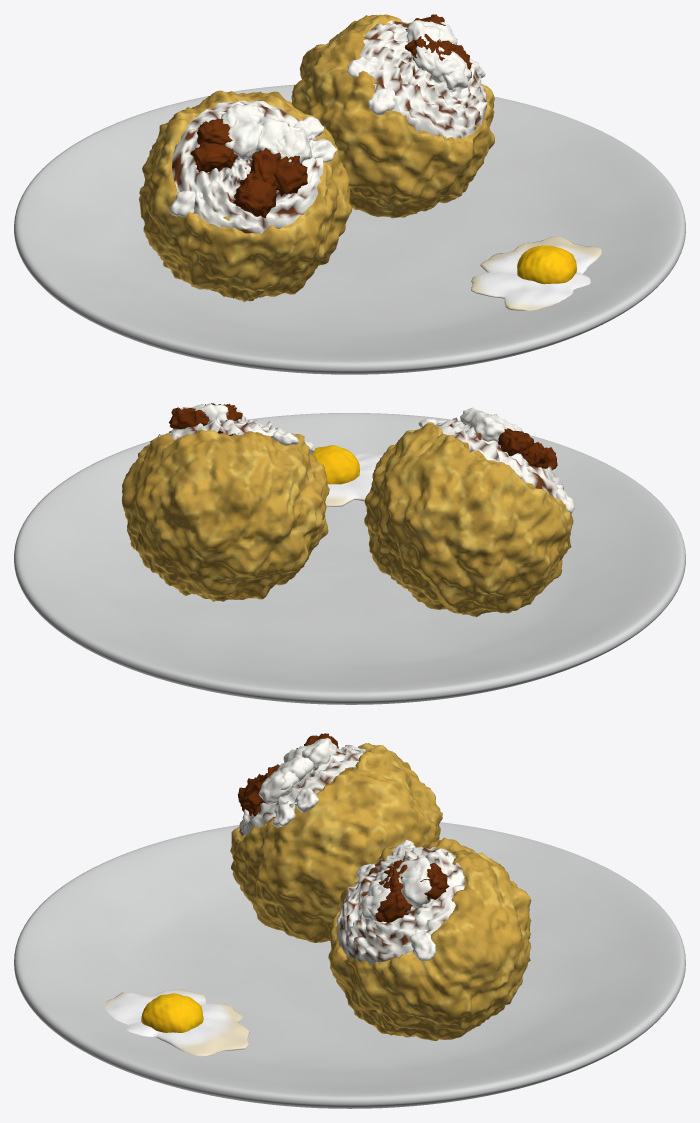
The model's file is comida_m2.glb.
3 views of the same model, one above another, from view 1: azimuth 30°, elevation 25°; view 2: azimuth 150°, elevation 25°; view 3: azimuth 270°, elevation 25° (orthographic).
Visible parts, largest first — view 1: vajilla, bolon_corteza, relleno_queso, chicharron, huevo_clara, huevo_yema; view 2: vajilla, bolon_corteza, relleno_queso, chicharron, huevo_clara, huevo_yema; view 3: vajilla, bolon_corteza, relleno_queso, huevo_clara, chicharron, huevo_yema.
Boxes of the visible parts, <box> form: vajilla: <box>14,84,685,374</box>; bolon_corteza: <box>139,14,494,302</box>; relleno_queso: <box>169,20,487,234</box>; chicharron: <box>190,14,472,218</box>; huevo_clara: <box>471,236,601,310</box>; huevo_yema: <box>517,245,576,284</box>; vajilla: <box>14,413,685,704</box>; bolon_corteza: <box>121,422,573,617</box>; relleno_queso: <box>157,404,574,513</box>; chicharron: <box>169,403,557,470</box>; huevo_clara: <box>325,453,383,506</box>; huevo_yema: <box>311,445,359,484</box>; vajilla: <box>14,822,685,1108</box>; bolon_corteza: <box>230,743,531,1040</box>; relleno_queso: <box>239,738,464,965</box>; huevo_clara: <box>105,989,249,1056</box>; chicharron: <box>237,733,449,922</box>; huevo_yema: <box>141,993,203,1032</box>.
Bounding box in the file's own units: 1.2 × 0.4099 × 1.2.
